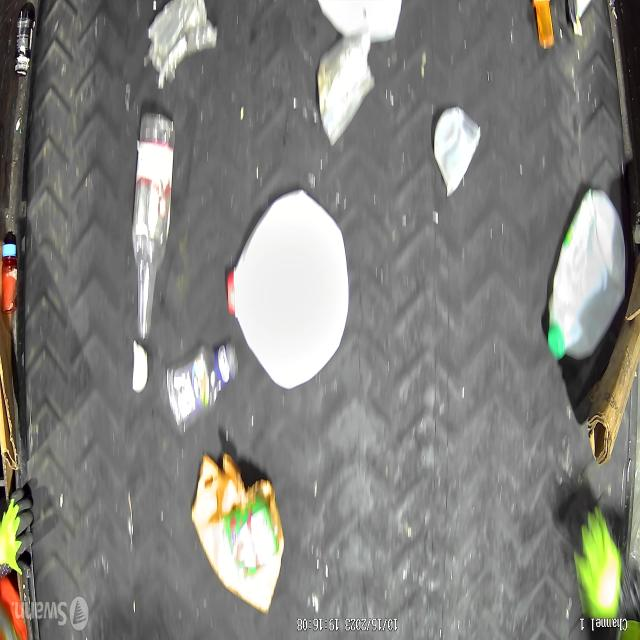can: (316, 24, 376, 153)
milk_jug: (226, 184, 350, 396), (546, 186, 626, 365)
non_white_jug: (190, 453, 286, 612)
plastic_bottle: (132, 112, 175, 342), (161, 340, 239, 438)
